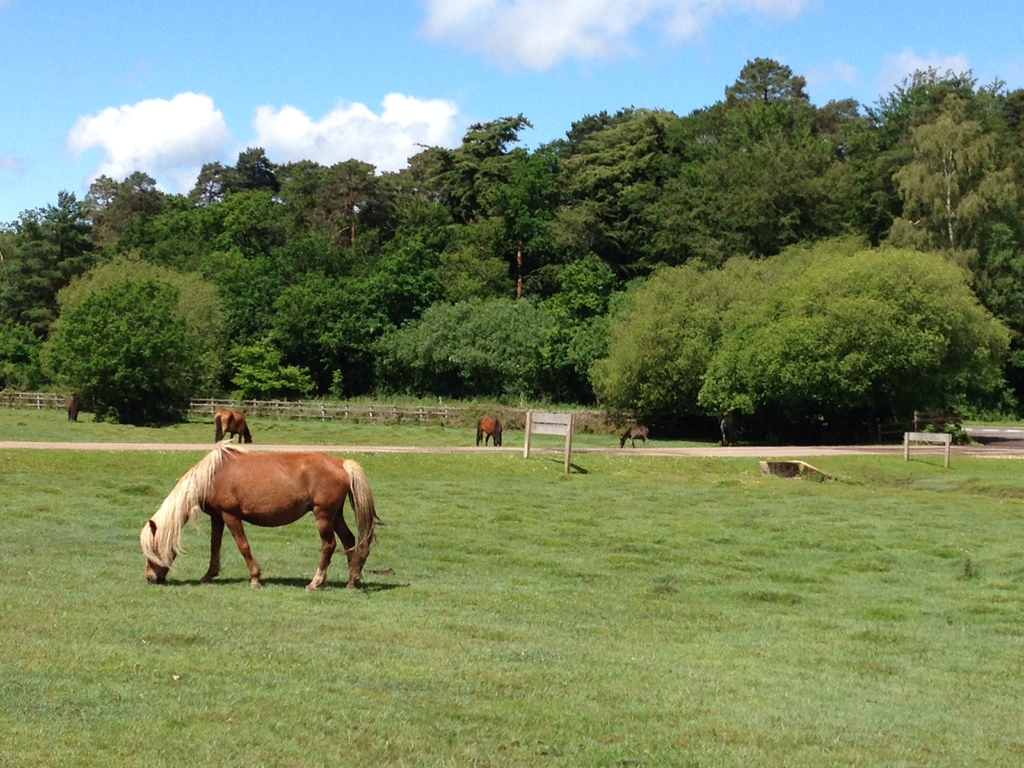horse: (138, 436, 382, 583), (212, 410, 253, 442), (476, 414, 503, 445), (620, 421, 651, 446)
